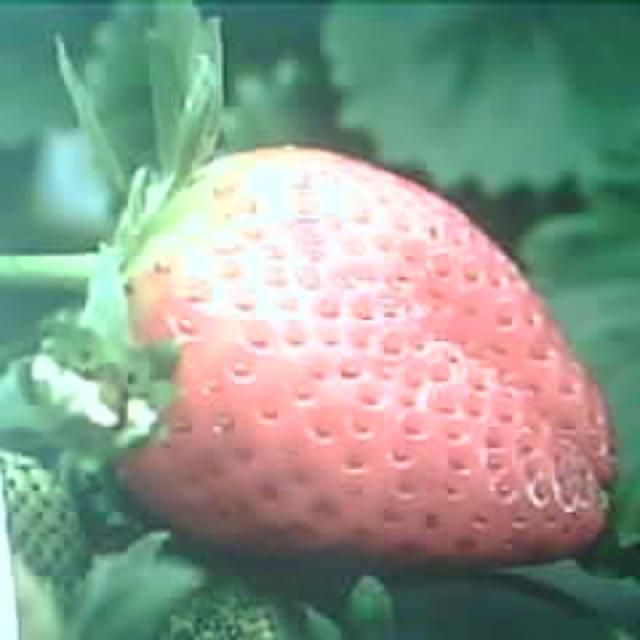ripe: (114, 148, 618, 564)
